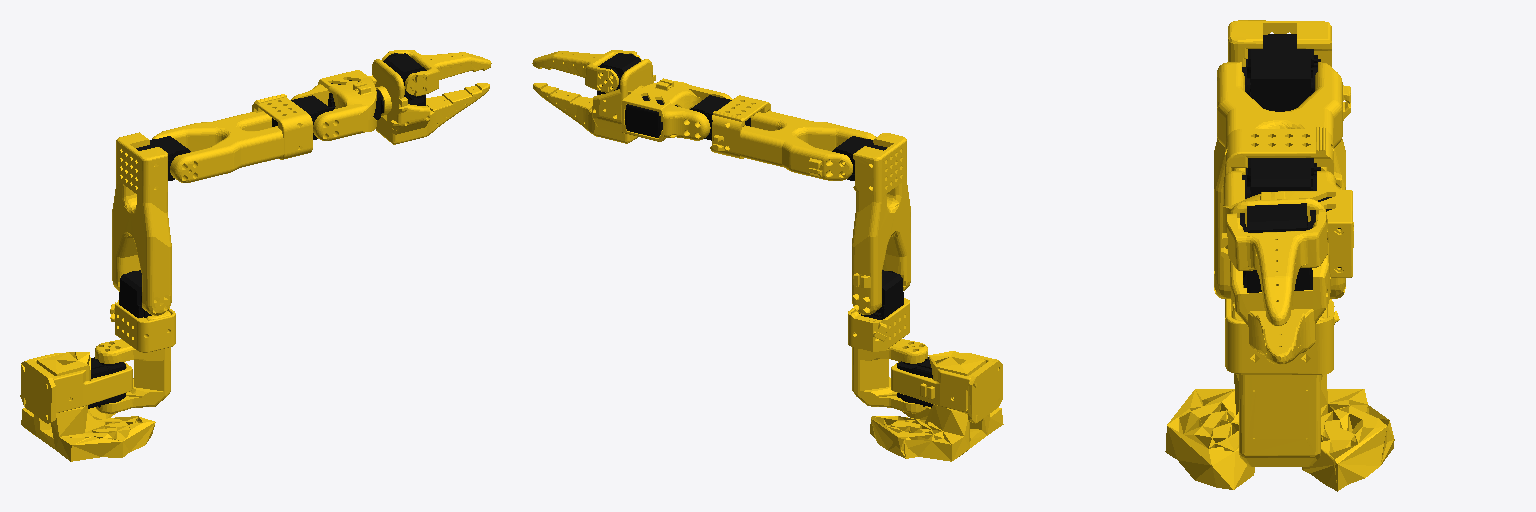
URDF robot description (so101_new_calib):
<?xml version="1.0" encoding="utf-8"?>
<!-- Generated using onshape-to-robot -->
<!-- Onshape https://cad.onshape.com/documents/7715cc284bb430fe6dab4ffd/w/4fd0791b683777b02f8d975a/e/826c553ede3b7592eb9ca800 -->
<robot name="so101_new_calib">

  <!-- Materials -->
  <material name="3d_printed">
    <color rgba="1.0 0.82 0.12 1.0"/>
  </material>
  <material name="sts3215">
    <color rgba="0.1 0.1 0.1 1.0"/>
  </material>

  <!-- Link base -->
  <link name="base_link">
    <inertial>
      <origin xyz="0.0137179 -5.19711e-05 0.0334843" rpy="0 0 0"/>
      <mass value="0.147"/>
      <inertia ixx="0.000114686" ixy="-4.59787e-07" ixz="4.97151e-06" iyy="0.000136117" iyz="9.75275e-08" izz="0.000130364"/>
    </inertial>
    <!-- Part base_motor_holder_so101_v1 -->
    <visual>
      <origin xyz="-0.00636471 -9.94414e-05 -0.0024" rpy="1.5708 -1.67685e-15 1.5708"/>
      <geometry>
        <mesh filename="package://so101_description/meshes/base_motor_holder_so101_v1.stl"/>
      </geometry>
      <material name="3d_printed"/>
    </visual>
    <collision>
      <origin xyz="-0.00636471 -9.94414e-05 -0.0024" rpy="1.5708 -1.67685e-15 1.5708"/>
      <geometry>
        <mesh filename="package://so101_description/meshes/base_motor_holder_so101_v1.stl"/>
      </geometry>
    </collision>
    <!-- Part base_so101_v2 -->
    <visual>
      <origin xyz="-0.00636471 -8.97657e-09 -0.0024" rpy="1.5708 -2.78073e-29 1.5708"/>
      <geometry>
        <mesh filename="package://so101_description/meshes/base_so101_v2.stl"/>
      </geometry>
      <material name="3d_printed"/>
    </visual>
    <collision>
      <origin xyz="-0.00636471 -8.97657e-09 -0.0024" rpy="1.5708 -2.78073e-29 1.5708"/>
      <geometry>
        <mesh filename="package://so101_description/meshes/base_so101_v2.stl"/>
      </geometry>
    </collision>
    <!-- Part sts3215_03a_v1 -->
    <visual>
      <origin xyz="0.0263353 -8.97657e-09 0.0437" rpy="-8.21148e-16 7.84513e-18 1.249e-15"/>
      <geometry>
        <mesh filename="package://so101_description/meshes/sts3215_03a_v1.stl"/>
      </geometry>
      <material name="sts3215"/>
    </visual>
    <collision>
      <origin xyz="0.0263353 -8.97657e-09 0.0437" rpy="-8.21148e-16 7.84513e-18 1.249e-15"/>
      <geometry>
        <mesh filename="package://so101_description/meshes/sts3215_03a_v1.stl"/>
      </geometry>
    </collision>
    <!-- Part waveshare_mounting_plate_so101_v2 -->
    <visual>
      <origin xyz="-0.0309827 -0.000199441 0.0474" rpy="1.5708 -1.35493e-14 1.5708"/>
      <geometry>
        <mesh filename="package://so101_description/meshes/waveshare_mounting_plate_so101_v2.stl"/>
      </geometry>
      <material name="3d_printed"/>
    </visual>
    <collision>
      <origin xyz="-0.0309827 -0.000199441 0.0474" rpy="1.5708 -1.35493e-14 1.5708"/>
      <geometry>
        <mesh filename="package://so101_description/meshes/waveshare_mounting_plate_so101_v2.stl"/>
      </geometry>
    </collision>
  </link>

  <!-- Link shoulder -->
  <link name="shoulder_link">
    <inertial>
      <origin xyz="-0.0307604 -1.66727e-05 -0.0252713" rpy="0 0 0"/>
      <mass value="0.100006"/>
      <inertia ixx="8.3759e-05" ixy="7.55525e-08" ixz="-1.16342e-06" iyy="8.10403e-05" iyz="1.54663e-07" izz="2.39783e-05"/>
    </inertial>
    <!-- Part sts3215_03a_v1_2 -->
    <visual>
      <origin xyz="-0.0303992 0.000422241 -0.0417" rpy="1.5708 1.5708 0"/>
      <geometry>
        <mesh filename="package://so101_description/meshes/sts3215_03a_v1.stl"/>
      </geometry>
      <material name="sts3215"/>
    </visual>
    <collision>
      <origin xyz="-0.0303992 0.000422241 -0.0417" rpy="1.5708 1.5708 0"/>
      <geometry>
        <mesh filename="package://so101_description/meshes/sts3215_03a_v1.stl"/>
      </geometry>
    </collision>
    <!-- Part motor_holder_so101_base_v1 -->
    <visual>
      <origin xyz="-0.0675992 -0.000177759 0.0158499" rpy="1.5708 -1.5708 0"/>
      <geometry>
        <mesh filename="package://so101_description/meshes/motor_holder_so101_base_v1.stl"/>
      </geometry>
      <material name="3d_printed"/>
    </visual>
    <collision>
      <origin xyz="-0.0675992 -0.000177759 0.0158499" rpy="1.5708 -1.5708 0"/>
      <geometry>
        <mesh filename="package://so101_description/meshes/motor_holder_so101_base_v1.stl"/>
      </geometry>
    </collision>
    <!-- Part rotation_pitch_so101_v1 -->
    <visual>
      <origin xyz="0.0122008 2.22413e-05 0.0464" rpy="-1.5708 2.35221e-33 0"/>
      <geometry>
        <mesh filename="package://so101_description/meshes/rotation_pitch_so101_v1.stl"/>
      </geometry>
      <material name="3d_printed"/>
    </visual>
    <collision>
      <origin xyz="0.0122008 2.22413e-05 0.0464" rpy="-1.5708 2.35221e-33 0"/>
      <geometry>
        <mesh filename="package://so101_description/meshes/rotation_pitch_so101_v1.stl"/>
      </geometry>
    </collision>
  </link>

  <!-- Link upper_arm -->
  <link name="upper_arm_link">
    <inertial>
      <origin xyz="-0.0898471 -0.00838224 0.0184089" rpy="0 0 0"/>
      <mass value="0.103"/>
      <inertia ixx="4.08002e-05" ixy="-1.97819e-05" ixz="-4.03016e-08" iyy="0.000147318" iyz="8.97326e-09" izz="0.000142487"/>
    </inertial>
    <!-- Part sts3215_03a_v1_3 -->
    <visual>
      <origin xyz="-0.11257 -0.0155 0.0187" rpy="-3.14159 -5.27356e-16 -1.5708"/>
      <geometry>
        <mesh filename="package://so101_description/meshes/sts3215_03a_v1.stl"/>
      </geometry>
      <material name="sts3215"/>
    </visual>
    <collision>
      <origin xyz="-0.11257 -0.0155 0.0187" rpy="-3.14159 -5.27356e-16 -1.5708"/>
      <geometry>
        <mesh filename="package://so101_description/meshes/sts3215_03a_v1.stl"/>
      </geometry>
    </collision>
    <!-- Part upper_arm_so101_v1 -->
    <visual>
      <origin xyz="-0.065085 0.012 0.0182" rpy="3.14159 -0 -1.30911e-30"/>
      <geometry>
        <mesh filename="package://so101_description/meshes/upper_arm_so101_v1.stl"/>
      </geometry>
      <material name="3d_printed"/>
    </visual>
    <collision>
      <origin xyz="-0.065085 0.012 0.0182" rpy="3.14159 -0 -1.30911e-30"/>
      <geometry>
        <mesh filename="package://so101_description/meshes/upper_arm_so101_v1.stl"/>
      </geometry>
    </collision>
  </link>

  <!-- Link lower_arm -->
  <link name="lower_arm_link">
    <inertial>
      <origin xyz="-0.0980701 0.00324376 0.0182831" rpy="0 0 0"/>
      <mass value="0.104"/>
      <inertia ixx="2.87438e-05" ixy="7.41152e-06" ixz="1.26409e-06" iyy="0.000159844" iyz="-4.90188e-08" izz="0.00014529"/>
    </inertial>
    <!-- Part under_arm_so101_v1 -->
    <visual>
      <origin xyz="-0.0648499 -0.032 0.0182" rpy="3.14159 -0 6.67202e-31"/>
      <geometry>
        <mesh filename="package://so101_description/meshes/under_arm_so101_v1.stl"/>
      </geometry>
      <material name="3d_printed"/>
    </visual>
    <collision>
      <origin xyz="-0.0648499 -0.032 0.0182" rpy="3.14159 -0 6.67202e-31"/>
      <geometry>
        <mesh filename="package://so101_description/meshes/under_arm_so101_v1.stl"/>
      </geometry>
    </collision>
    <!-- Part motor_holder_so101_wrist_v1 -->
    <visual>
      <origin xyz="-0.0648499 -0.032 0.018" rpy="-3.14159 -2.55351e-15 -1.83387e-30"/>
      <geometry>
        <mesh filename="package://so101_description/meshes/motor_holder_so101_wrist_v1.stl"/>
      </geometry>
      <material name="3d_printed"/>
    </visual>
    <collision>
      <origin xyz="-0.0648499 -0.032 0.018" rpy="-3.14159 -2.55351e-15 -1.83387e-30"/>
      <geometry>
        <mesh filename="package://so101_description/meshes/motor_holder_so101_wrist_v1.stl"/>
      </geometry>
    </collision>
    <!-- Part sts3215_03a_v1_4 -->
    <visual>
      <origin xyz="-0.1224 0.0052 0.0187" rpy="-3.14159 -7.88861e-31 -3.14159"/>
      <geometry>
        <mesh filename="package://so101_description/meshes/sts3215_03a_v1.stl"/>
      </geometry>
      <material name="sts3215"/>
    </visual>
    <collision>
      <origin xyz="-0.1224 0.0052 0.0187" rpy="-3.14159 -7.88861e-31 -3.14159"/>
      <geometry>
        <mesh filename="package://so101_description/meshes/sts3215_03a_v1.stl"/>
      </geometry>
    </collision>
  </link>

  <!-- Link wrist -->
  <link name="wrist_link">
    <inertial>
      <origin xyz="-0.000103312 -0.0386143 0.0281156" rpy="0 0 0"/>
      <mass value="0.079"/>
      <inertia ixx="3.68263e-05" ixy="1.7893e-08" ixz="-5.28128e-08" iyy="2.5391e-05" iyz="3.6412e-06" izz="2.1e-05"/>
    </inertial>
    <!-- Part sts3215_03a_no_horn_v1 -->
    <visual>
      <origin xyz="8.32667e-17 -0.0424 0.0306" rpy="1.5708 1.5708 0"/>
      <geometry>
        <mesh filename="package://so101_description/meshes/sts3215_03a_no_horn_v1.stl"/>
      </geometry>
      <material name="sts3215"/>
    </visual>
    <collision>
      <origin xyz="8.32667e-17 -0.0424 0.0306" rpy="1.5708 1.5708 0"/>
      <geometry>
        <mesh filename="package://so101_description/meshes/sts3215_03a_no_horn_v1.stl"/>
      </geometry>
    </collision>
    <!-- Part wrist_roll_pitch_so101_v2 -->
    <visual>
      <origin xyz="0 -0.028 0.0181" rpy="-1.5708 -1.5708 0"/>
      <geometry>
        <mesh filename="package://so101_description/meshes/wrist_roll_pitch_so101_v2.stl"/>
      </geometry>
      <material name="3d_printed"/>
    </visual>
    <collision>
      <origin xyz="0 -0.028 0.0181" rpy="-1.5708 -1.5708 0"/>
      <geometry>
        <mesh filename="package://so101_description/meshes/wrist_roll_pitch_so101_v2.stl"/>
      </geometry>
    </collision>
  </link>

  <!-- Link gripper -->
  <link name="gripper_link">
    <inertial>
      <origin xyz="0.000213627 0.000245138 -0.025187" rpy="0 0 0"/>
      <mass value="0.087"/>
      <inertia ixx="2.75087e-05" ixy="-3.35241e-07" ixz="-5.7352e-06" iyy="4.33657e-05" iyz="-5.17847e-08" izz="3.45059e-05"/>
    </inertial>
    <!-- Part sts3215_03a_v1_5 -->
    <visual>
      <origin xyz="0.0077 0.0001 -0.0234" rpy="-1.5708 -5.19179e-17 -1.66533e-16"/>
      <geometry>
        <mesh filename="package://so101_description/meshes/sts3215_03a_v1.stl"/>
      </geometry>
      <material name="sts3215"/>
    </visual>
    <collision>
      <origin xyz="0.0077 0.0001 -0.0234" rpy="-1.5708 -5.19179e-17 -1.66533e-16"/>
      <geometry>
        <mesh filename="package://so101_description/meshes/sts3215_03a_v1.stl"/>
      </geometry>
    </collision>
    <!-- Part wrist_roll_follower_so101_v1 -->
    <visual>
      <origin xyz="8.32667e-17 -0.000218214 0.000949706" rpy="-3.14159 -5.55112e-17 0"/>
      <geometry>
        <mesh filename="package://so101_description/meshes/wrist_roll_follower_so101_v1.stl"/>
      </geometry>
      <material name="3d_printed"/>
    </visual>
    <collision>
      <origin xyz="8.32667e-17 -0.000218214 0.000949706" rpy="-3.14159 -5.55112e-17 0"/>
      <geometry>
        <mesh filename="package://so101_description/meshes/wrist_roll_follower_so101_v1.stl"/>
      </geometry>
    </collision>
  </link>

  <!-- Gripper frame (dummy link + fixed joint) -->
  <link name="gripper_frame_link">
    <origin xyz="0 0 0" rpy="0 -0 0"/>
    <inertial>
      <origin xyz="0 0 0" rpy="0 0 0"/>
      <mass value="1e-9"/>
      <inertia ixx="0" ixy="0" ixz="0" iyy="0" iyz="0" izz="0"/>
    </inertial>
  </link>

  <joint name="gripper_frame_joint" type="fixed">
    <origin xyz="-0.0079 -0.000218121 -0.0981274" rpy="0 3.14159 0"/>
    <parent link="gripper_link"/>
    <child link="gripper_frame_link"/>
    <axis xyz="0 0 0"/>
  </joint>

  <!-- Link moving_jaw_so101_v1 -->
  <link name="moving_jaw_so101_v1_link">
    <inertial>
      <origin xyz="-0.00157495 -0.0300244 0.0192755" rpy="0 0 0"/>
      <mass value="0.012"/>
      <inertia ixx="6.61427e-06" ixy="-3.19807e-07" ixz="-5.90717e-09" iyy="1.89032e-06" iyz="-1.09945e-07" izz="5.28738e-06"/>
    </inertial>
    <!-- Part moving_jaw_so101_v1 -->
    <visual>
      <origin xyz="-5.55112e-17 -5.55112e-17 0.0189" rpy="9.53145e-17 6.93889e-18 1.24077e-24"/>
      <geometry>
        <mesh filename="package://so101_description/meshes/moving_jaw_so101_v1.stl"/>
      </geometry>
      <material name="3d_printed"/>
    </visual>
    <collision>
      <origin xyz="-5.55112e-17 -5.55112e-17 0.0189" rpy="9.53145e-17 6.93889e-18 1.24077e-24"/>
      <geometry>
        <mesh filename="package://so101_description/meshes/moving_jaw_so101_v1.stl"/>
      </geometry>
    </collision>
  </link>

  <!-- Joint from gripper to moving_jaw_so101_v1 -->
  <joint name="gripper" type="revolute">
    <origin xyz="0.0202 0.0188 -0.0234" rpy="1.5708 -5.24284e-08 -1.41553e-15"/>
    <parent link="gripper_link"/>
    <child link="moving_jaw_so101_v1_link"/>
    <axis xyz="0 0 1"/>
    <limit effort="10" velocity="10" lower="-0.174533" upper="1.74533"/>
  </joint>

  <transmission name="gripper_trans">
    <type>transmission_interface/SimpleTransmission</type>
    <joint name="gripper">
      <hardwareInterface>hardware_interface/PositionJointInterface</hardwareInterface>
    </joint>
    <actuator name="motor6">
      <hardwareInterface>hardware_interface/PositionJointInterface</hardwareInterface>
      <mechanicalReduction>1</mechanicalReduction>
    </actuator>
  </transmission>

  <!-- Joint from wrist to gripper -->
  <joint name="wrist_roll" type="revolute">
    <origin xyz="5.55112e-17 -0.0611 0.0181" rpy="1.5708 0.0486795 3.14159"/>
    <parent link="wrist_link"/>
    <child link="gripper_link"/>
    <axis xyz="0 0 1"/>
    <limit effort="10" velocity="10" lower="-2.74385" upper="2.84121"/>
  </joint>

  <transmission name="wrist_roll_trans">
    <type>transmission_interface/SimpleTransmission</type>
    <joint name="wrist_roll">
      <hardwareInterface>hardware_interface/PositionJointInterface</hardwareInterface>
    </joint>
    <actuator name="motor5">
      <hardwareInterface>hardware_interface/PositionJointInterface</hardwareInterface>
      <mechanicalReduction>1</mechanicalReduction>
    </actuator>
  </transmission>

  <!-- Joint from lower_arm to wrist -->
  <joint name="wrist_flex" type="revolute">
    <origin xyz="-0.1349 0.0052 3.62355e-17" rpy="4.02456e-15 8.67362e-16 -1.5708"/>
    <parent link="lower_arm_link"/>
    <child link="wrist_link"/>
    <axis xyz="0 0 1"/>
    <limit effort="10" velocity="10" lower="-1.65806" upper="1.65806"/>
  </joint>

  <transmission name="wrist_flex_trans">
    <type>transmission_interface/SimpleTransmission</type>
    <joint name="wrist_flex">
      <hardwareInterface>hardware_interface/PositionJointInterface</hardwareInterface>
    </joint>
    <actuator name="motor4">
      <hardwareInterface>hardware_interface/PositionJointInterface</hardwareInterface>
      <mechanicalReduction>1</mechanicalReduction>
    </actuator>
  </transmission>

  <!-- Joint from upper_arm to lower_arm -->
  <!-- Note: 5-degree calibration offset applied to joint limits -->
  <joint name="elbow_flex" type="revolute">
    <origin xyz="-0.11257 -0.028 1.73763e-16" rpy="-3.63608e-16 8.74301e-16 1.5708"/>
    <parent link="upper_arm_link"/>
    <child link="lower_arm_link"/>
    <axis xyz="0 0 1"/>
    <limit effort="10" velocity="10" lower="-1.69" upper="1.69"/>
  </joint>

  <transmission name="elbow_flex_trans">
    <type>transmission_interface/SimpleTransmission</type>
    <joint name="elbow_flex">
      <hardwareInterface>hardware_interface/PositionJointInterface</hardwareInterface>
    </joint>
    <actuator name="motor3">
      <hardwareInterface>hardware_interface/PositionJointInterface</hardwareInterface>
      <mechanicalReduction>1</mechanicalReduction>
    </actuator>
  </transmission>

  <!-- Joint from shoulder to upper_arm -->
  <joint name="shoulder_lift" type="revolute">
    <origin xyz="-0.0303992 -0.0182778 -0.0542" rpy="-1.5708 -1.5708 0"/>
    <parent link="shoulder_link"/>
    <child link="upper_arm_link"/>
    <axis xyz="0 0 1"/>
    <limit effort="10" velocity="10" lower="-1.74533" upper="1.74533"/>
  </joint>

  <transmission name="shoulder_lift_trans">
    <type>transmission_interface/SimpleTransmission</type>
    <joint name="shoulder_lift">
      <hardwareInterface>hardware_interface/PositionJointInterface</hardwareInterface>
    </joint>
    <actuator name="motor2">
      <hardwareInterface>hardware_interface/PositionJointInterface</hardwareInterface>
      <mechanicalReduction>1</mechanicalReduction>
    </actuator>
  </transmission>

  <!-- Joint from base to shoulder -->
  <joint name="shoulder_pan" type="revolute">
    <origin xyz="0.0388353 -8.97657e-09 0.0624" rpy="3.14159 4.18253e-17 -3.14159"/>
    <parent link="base_link"/>
    <child link="shoulder_link"/>
    <axis xyz="0 0 1"/>
    <limit effort="10" velocity="10" lower="-1.91986" upper="1.91986"/>
  </joint>

  <transmission name="shoulder_pan_trans">
    <type>transmission_interface/SimpleTransmission</type>
    <joint name="shoulder_pan">
      <hardwareInterface>hardware_interface/PositionJointInterface</hardwareInterface>
    </joint>
    <actuator name="motor1">
      <hardwareInterface>hardware_interface/PositionJointInterface</hardwareInterface>
      <mechanicalReduction>1</mechanicalReduction>
    </actuator>
  </transmission>

</robot>

--- Render facts (derived) ---
Views: 3 orthographic renders of the robot side by side, from view 1: azimuth 30°, elevation 25°; view 2: azimuth 150°, elevation 25°; view 3: azimuth 270°, elevation 25°.
Model so101_new_calib with 8 links and 7 joints (6 revolute, 1 fixed), rooted at base_link, posed all joints at 0.
Visible links, largest first — view 1: base_link, upper_arm_link, lower_arm_link, shoulder_link, gripper_link, wrist_link, moving_jaw_so101_v1_link; view 2: base_link, upper_arm_link, lower_arm_link, shoulder_link, wrist_link, gripper_link, moving_jaw_so101_v1_link; view 3: base_link, lower_arm_link, shoulder_link, upper_arm_link, gripper_link, moving_jaw_so101_v1_link, wrist_link.
Boxes of the visible links, x1,y1,x2,y2 form: base_link: [20, 352, 155, 461]; upper_arm_link: [112, 132, 190, 315]; lower_arm_link: [152, 94, 332, 182]; shoulder_link: [95, 270, 175, 413]; gripper_link: [372, 53, 489, 144]; wrist_link: [291, 70, 383, 140]; moving_jaw_so101_v1_link: [382, 50, 491, 96]; base_link: [870, 351, 1003, 461]; upper_arm_link: [832, 133, 910, 314]; lower_arm_link: [690, 95, 875, 180]; shoulder_link: [848, 270, 927, 413]; wrist_link: [622, 78, 732, 141]; gripper_link: [533, 53, 655, 143]; moving_jaw_so101_v1_link: [532, 50, 641, 92]; base_link: [1165, 374, 1394, 491]; lower_arm_link: [1217, 62, 1350, 198]; shoulder_link: [1225, 299, 1339, 466]; upper_arm_link: [1214, 20, 1353, 298]; gripper_link: [1221, 198, 1330, 364]; moving_jaw_so101_v1_link: [1227, 209, 1327, 325]; wrist_link: [1223, 171, 1352, 277].
Size in the robot's own frame: 0.4296 by 0.1104 by 0.2681 metres.
Meshes: 13 distinct files referenced, 17 mesh visuals loaded (13 binary STL).
